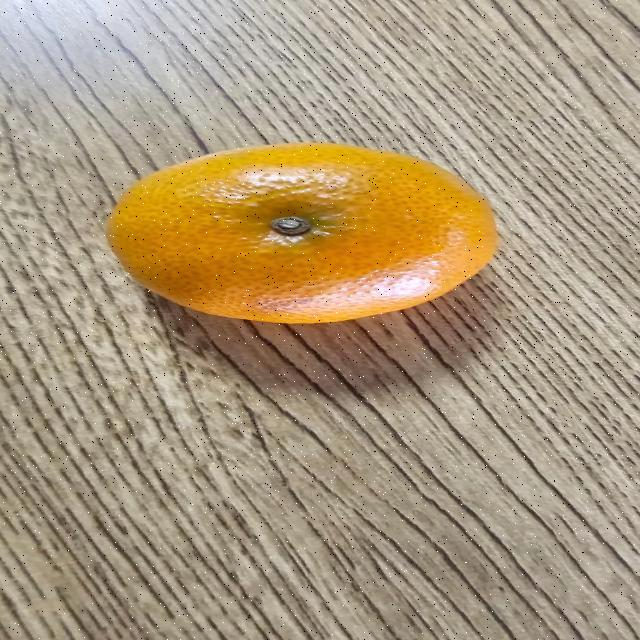Jeruk Mandarin: (99, 139, 504, 328)
